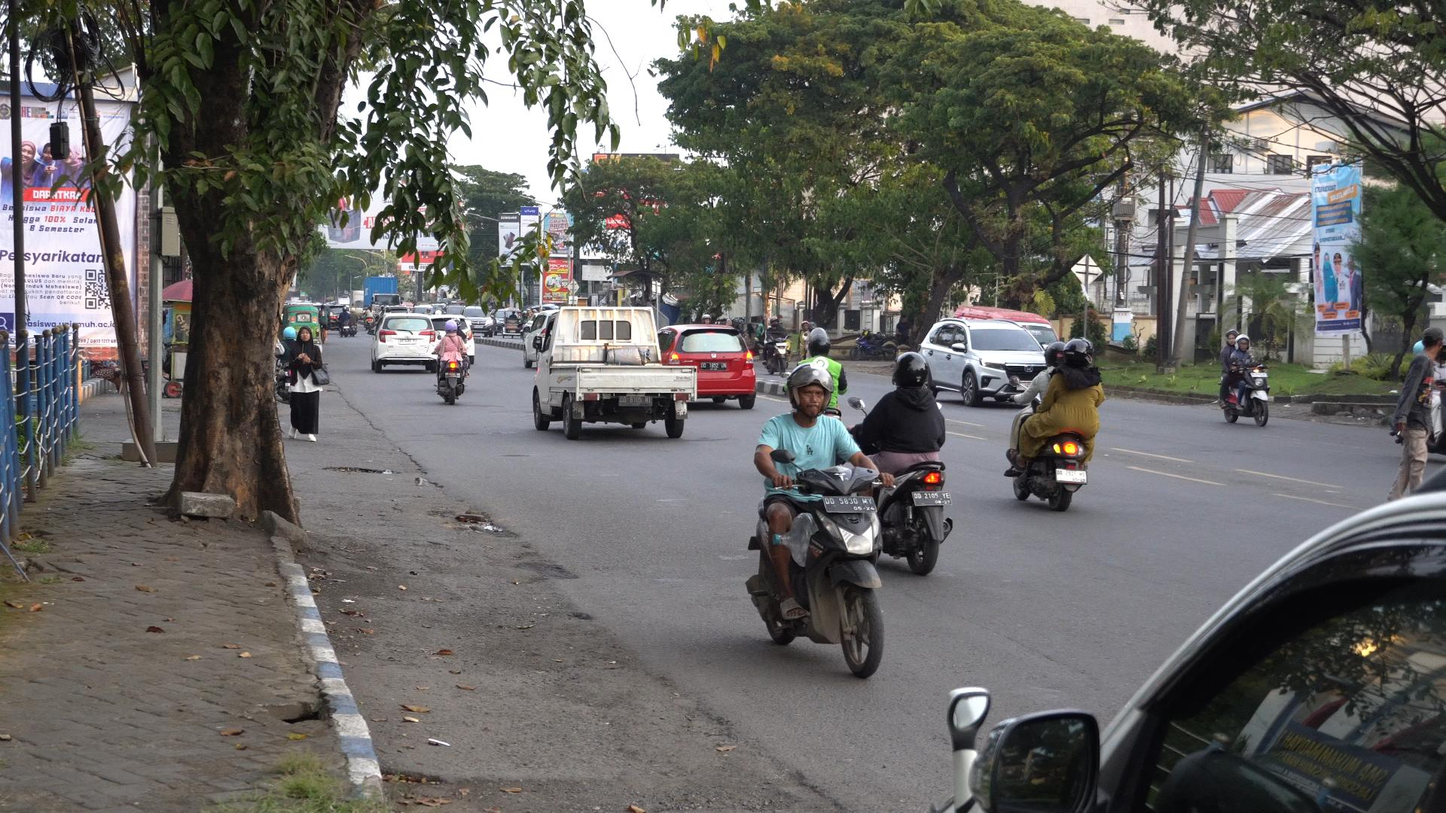number-plate: (821, 493, 878, 516)
